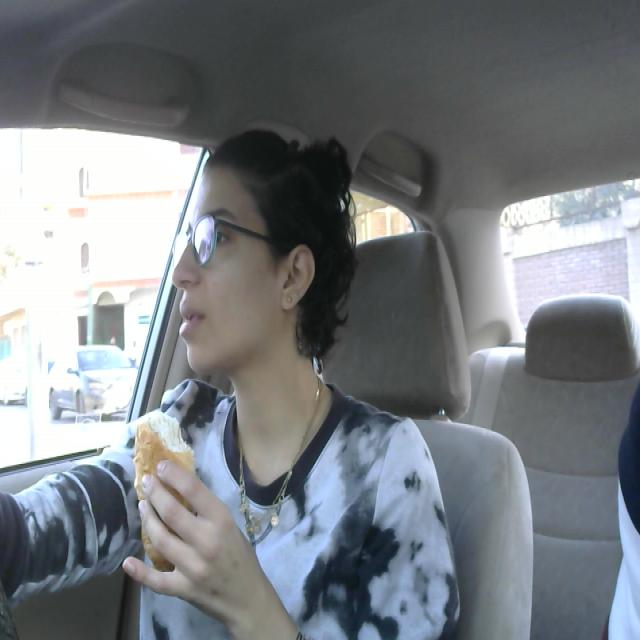eating: (128, 400, 197, 592)
